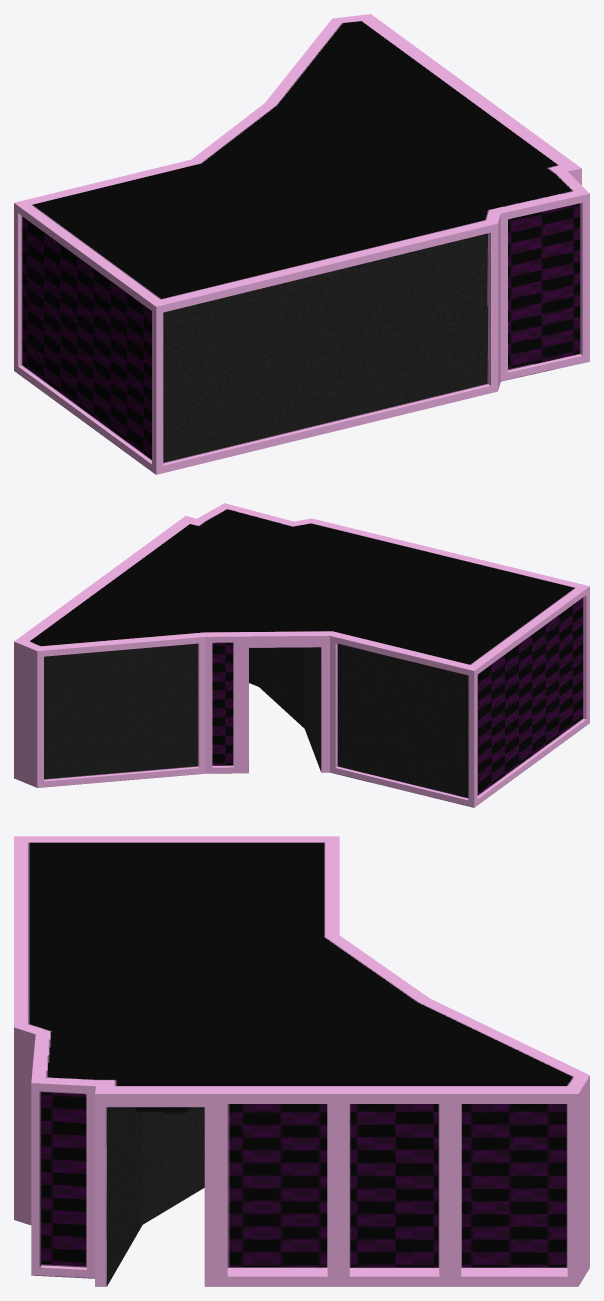
File: block12_b1_MESH.fbx
The picture shows the model from 3 angles, top to bottom: view 1: azimuth 30°, elevation 25°; view 2: azimuth 150°, elevation 25°; view 3: azimuth 270°, elevation 25°; orthographic projection. The views are drawn at different scales.
Parts seen in each view (by area): view 1: block12_b1_MESH; view 2: block12_b1_MESH; view 3: block12_b1_MESH.
Boxes of the visible parts, x1,y1,x2,y2 form: block12_b1_MESH: (14, 14, 589, 474); block12_b1_MESH: (14, 503, 589, 807); block12_b1_MESH: (14, 836, 589, 1286).
Size of the model in its own units: 10614 by 10023 by 3697.
